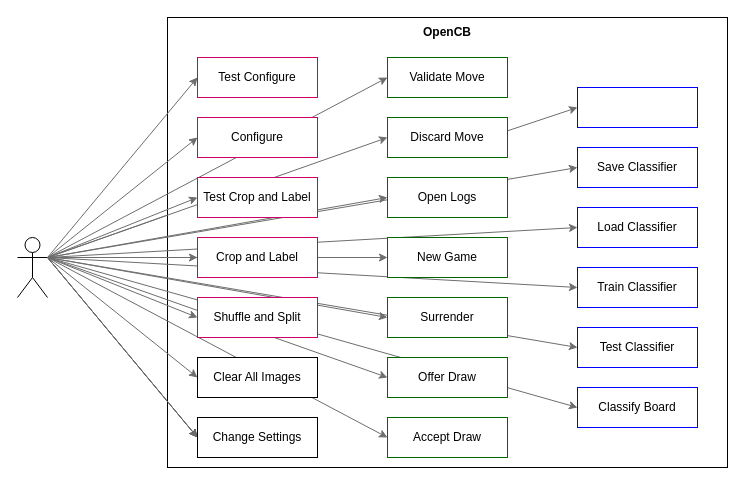
This 745x485 diagram has some shape labels left out. Each missing label, with the centre of its shape:
"Select Classifier" belongs at point 637,107.
"User" belongs at point 32,267.
